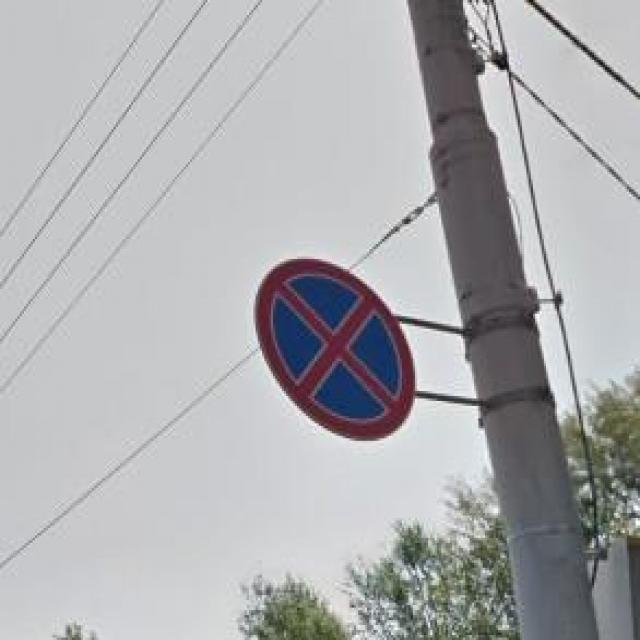no_waiting: (251, 254, 415, 438)
